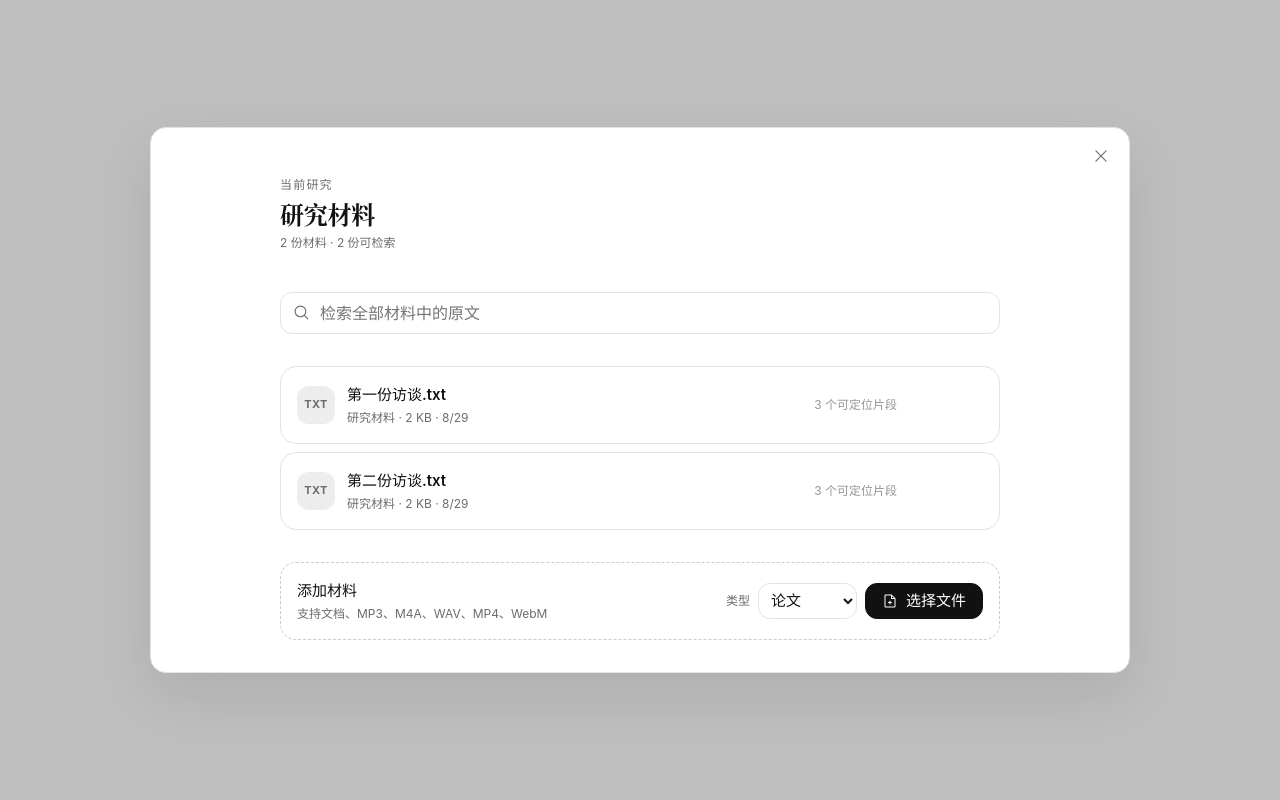
Scenario: ResearchMaterialsPanel › does not let a slower previous material detail replace the current selection
The image size is (1280, 800).
Expected: the text "第一份访谈.txt" is shown, [347, 385, 446, 404]
Click the button with aria-label "查看材料：第一份访谈.txt". click: (316, 405)
box: [281, 367, 913, 443]
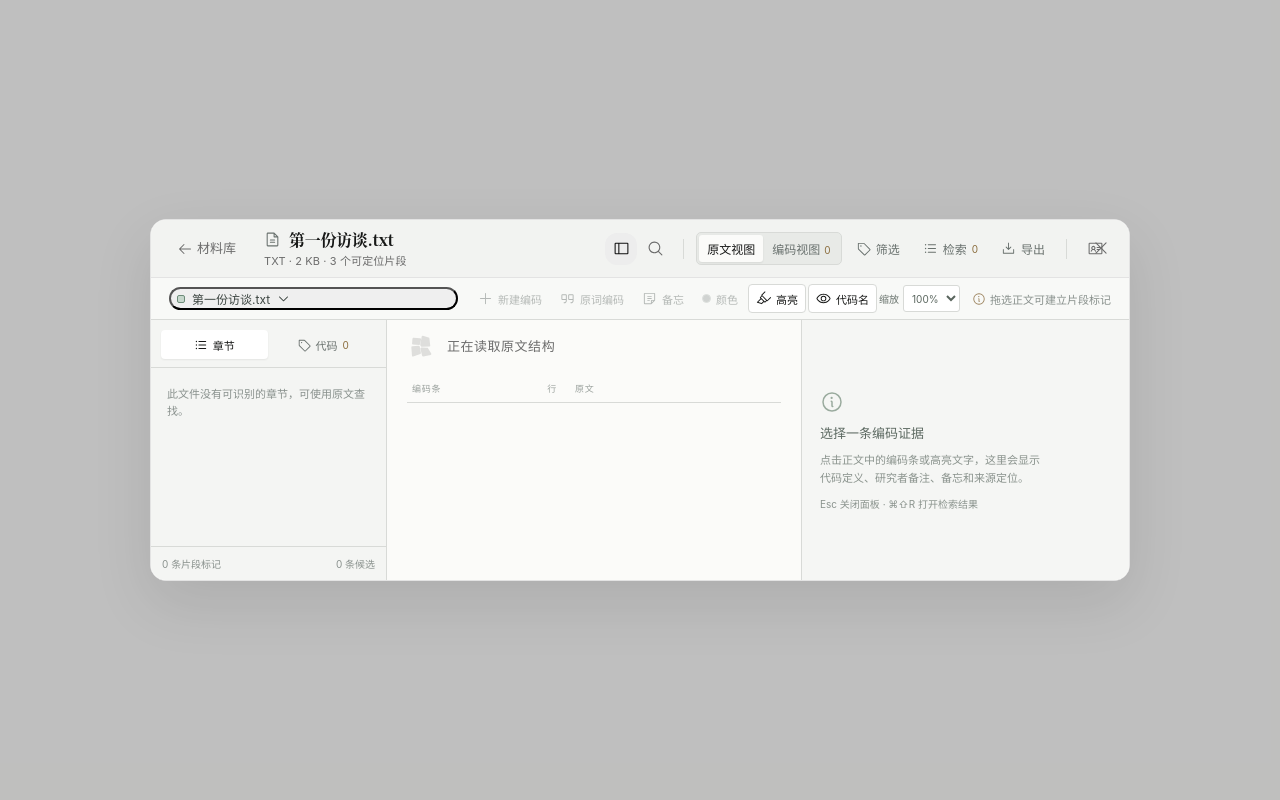
Click the button "材料库". click: (208, 248)
box: [169, 232, 248, 264]
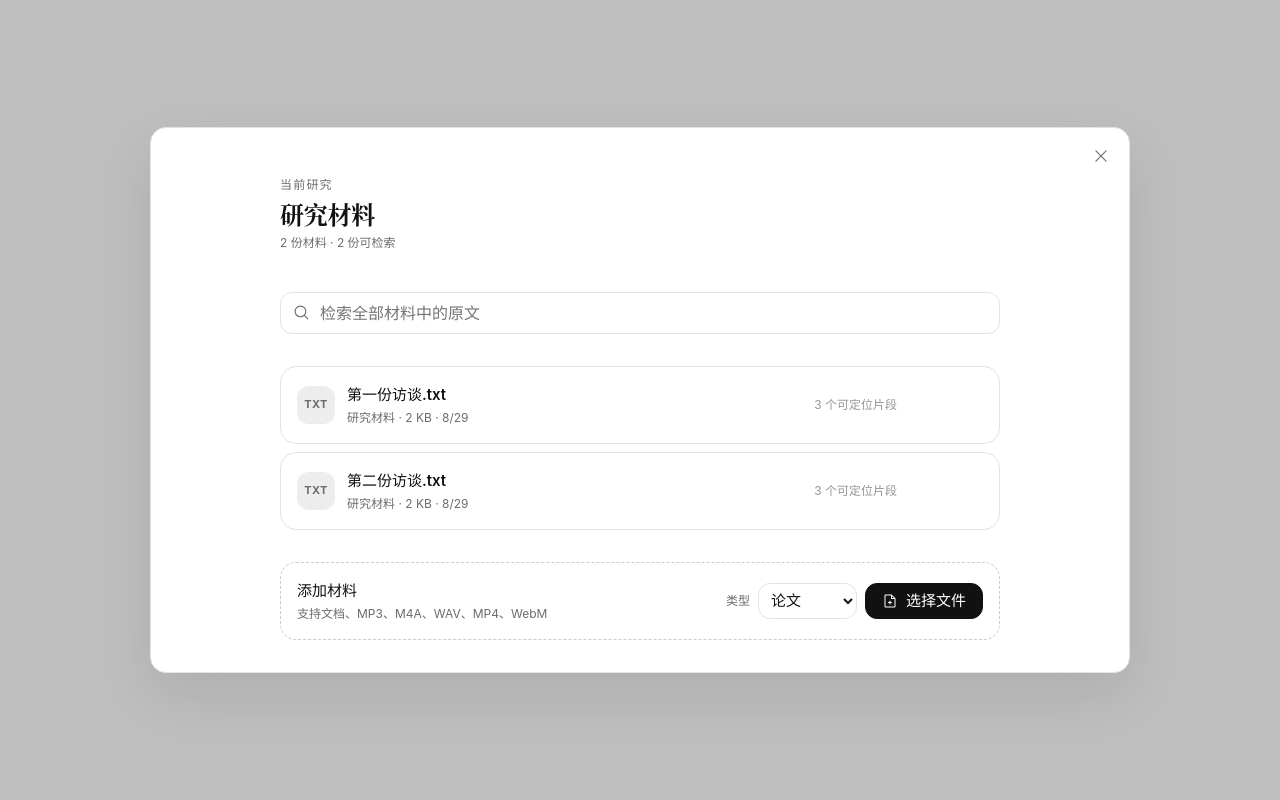
Click the button with aria-label "查看材料：第二份访谈.txt". click: (316, 491)
box: [281, 453, 913, 529]
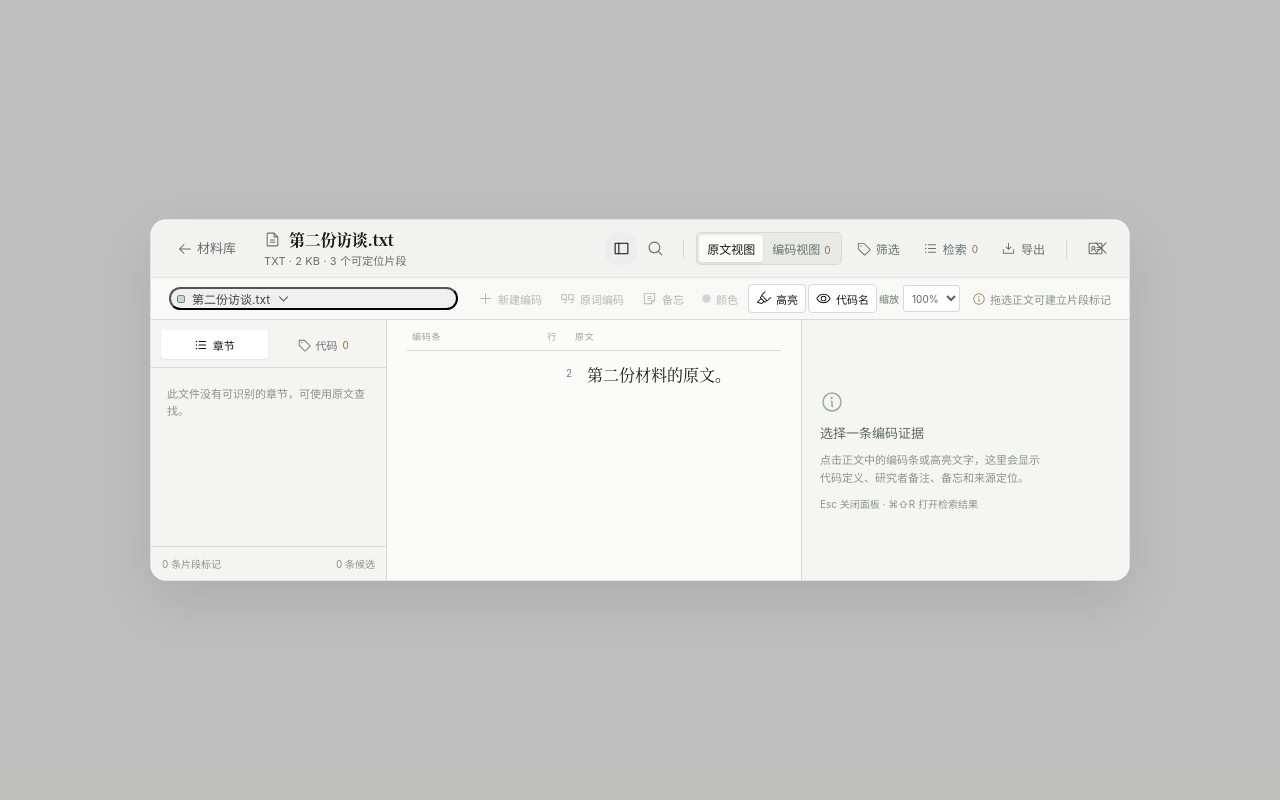
Result: the text "第二份材料的原文。" is shown at [587, 363, 731, 386]
